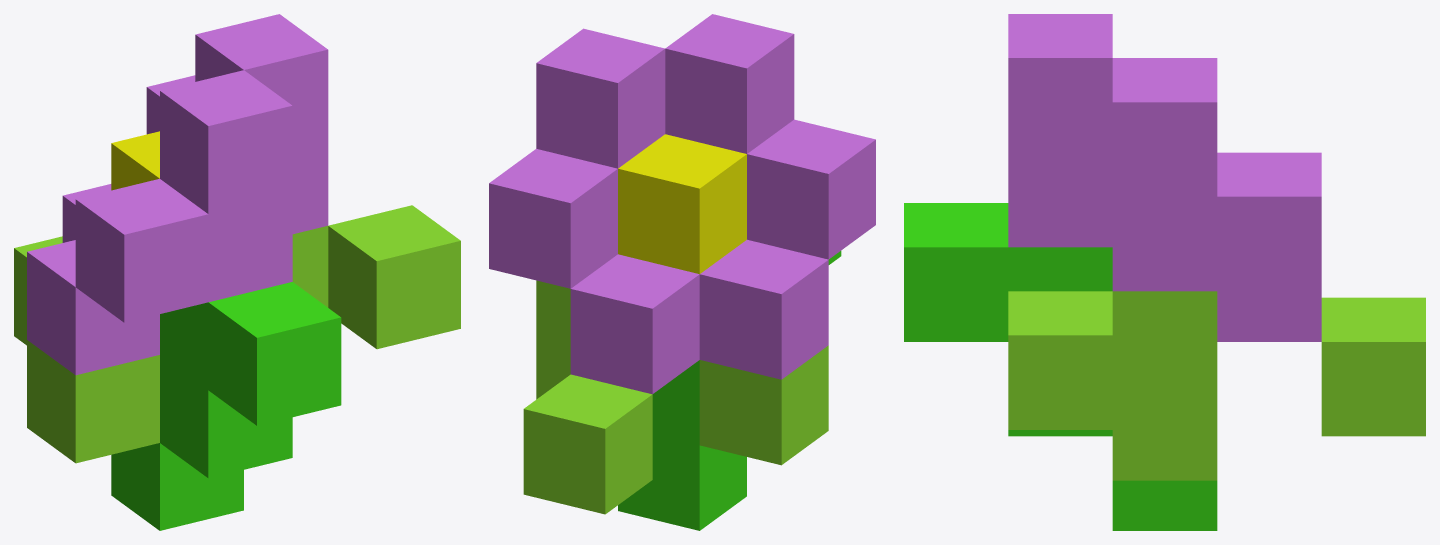
Rendered from tile-52.obj.
The picture shows the model from 3 angles, left to right: view 1: azimuth 30°, elevation 25°; view 2: azimuth 150°, elevation 25°; view 3: azimuth 270°, elevation 25°; orthographic projection. The views are drawn at different scales.
Bounding box in the file's own units: 0.4 × 0.5 × 0.5.
Materials: 1 (1 with a texture image).
